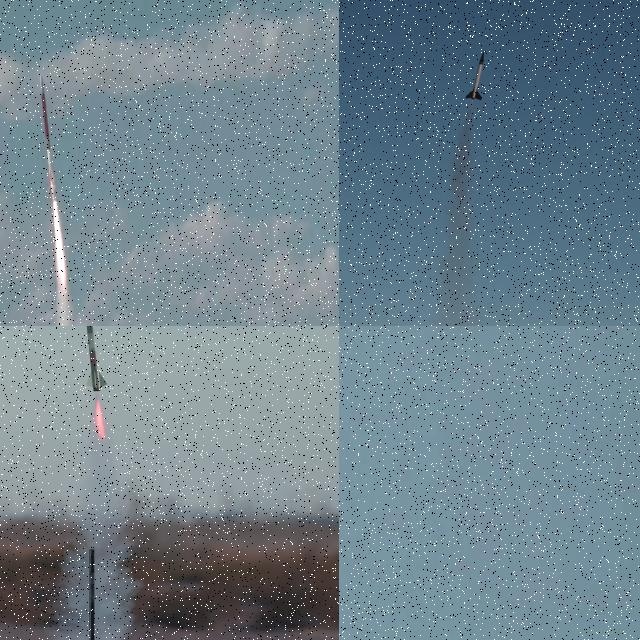Rocket: (40, 74, 56, 203), (81, 326, 107, 392), (465, 50, 485, 101)
